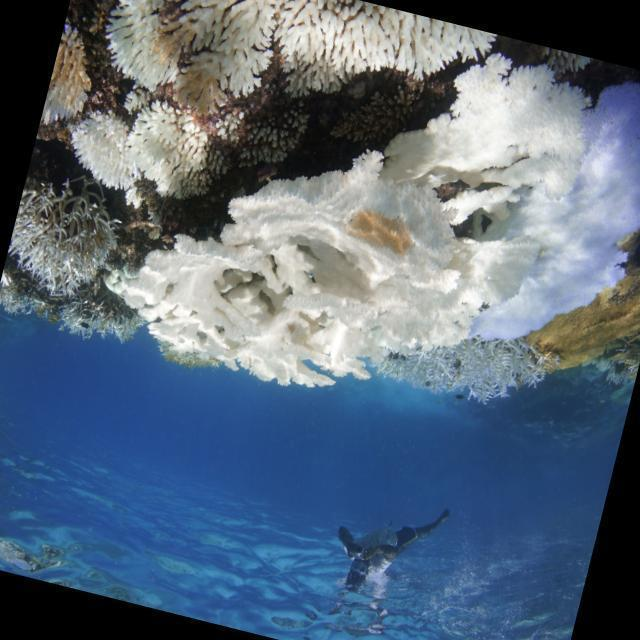Bleached Coral: (113, 130, 478, 417), (80, 0, 509, 195), (402, 37, 640, 380), (0, 164, 127, 311), (395, 335, 550, 421), (58, 94, 152, 194), (122, 99, 225, 178)
